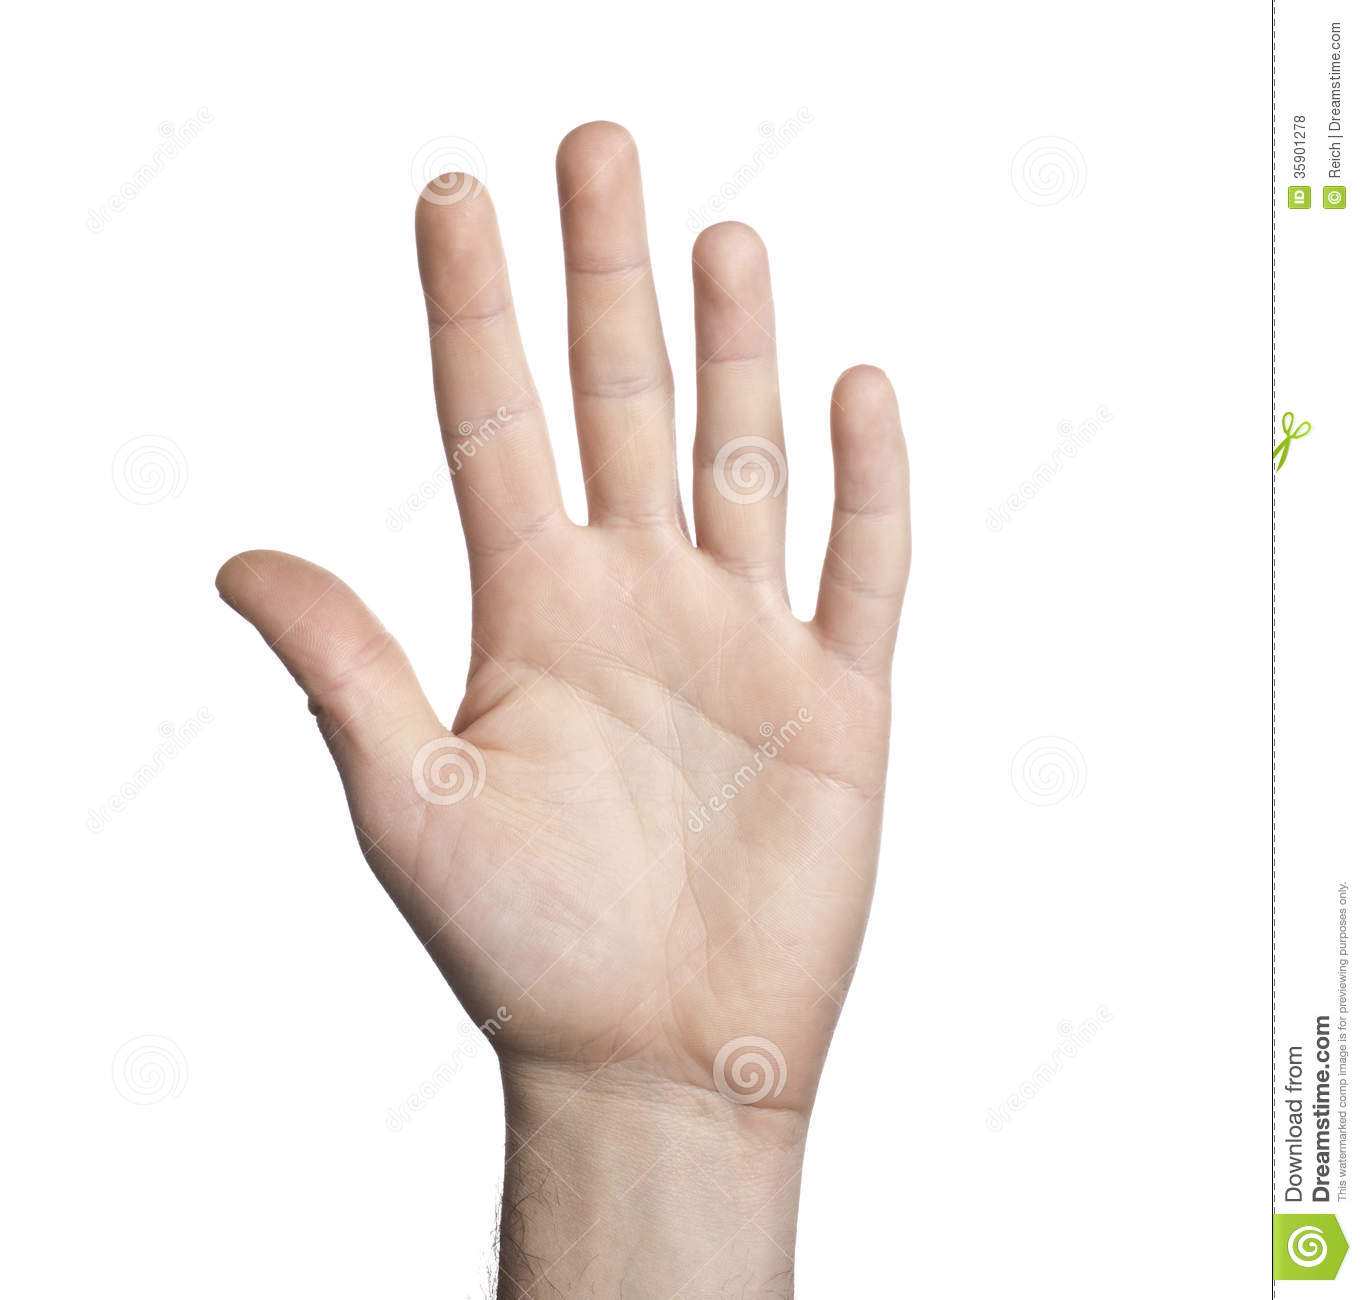finger: (413, 163, 564, 541), (555, 107, 691, 524), (686, 216, 801, 621), (823, 347, 925, 693)
